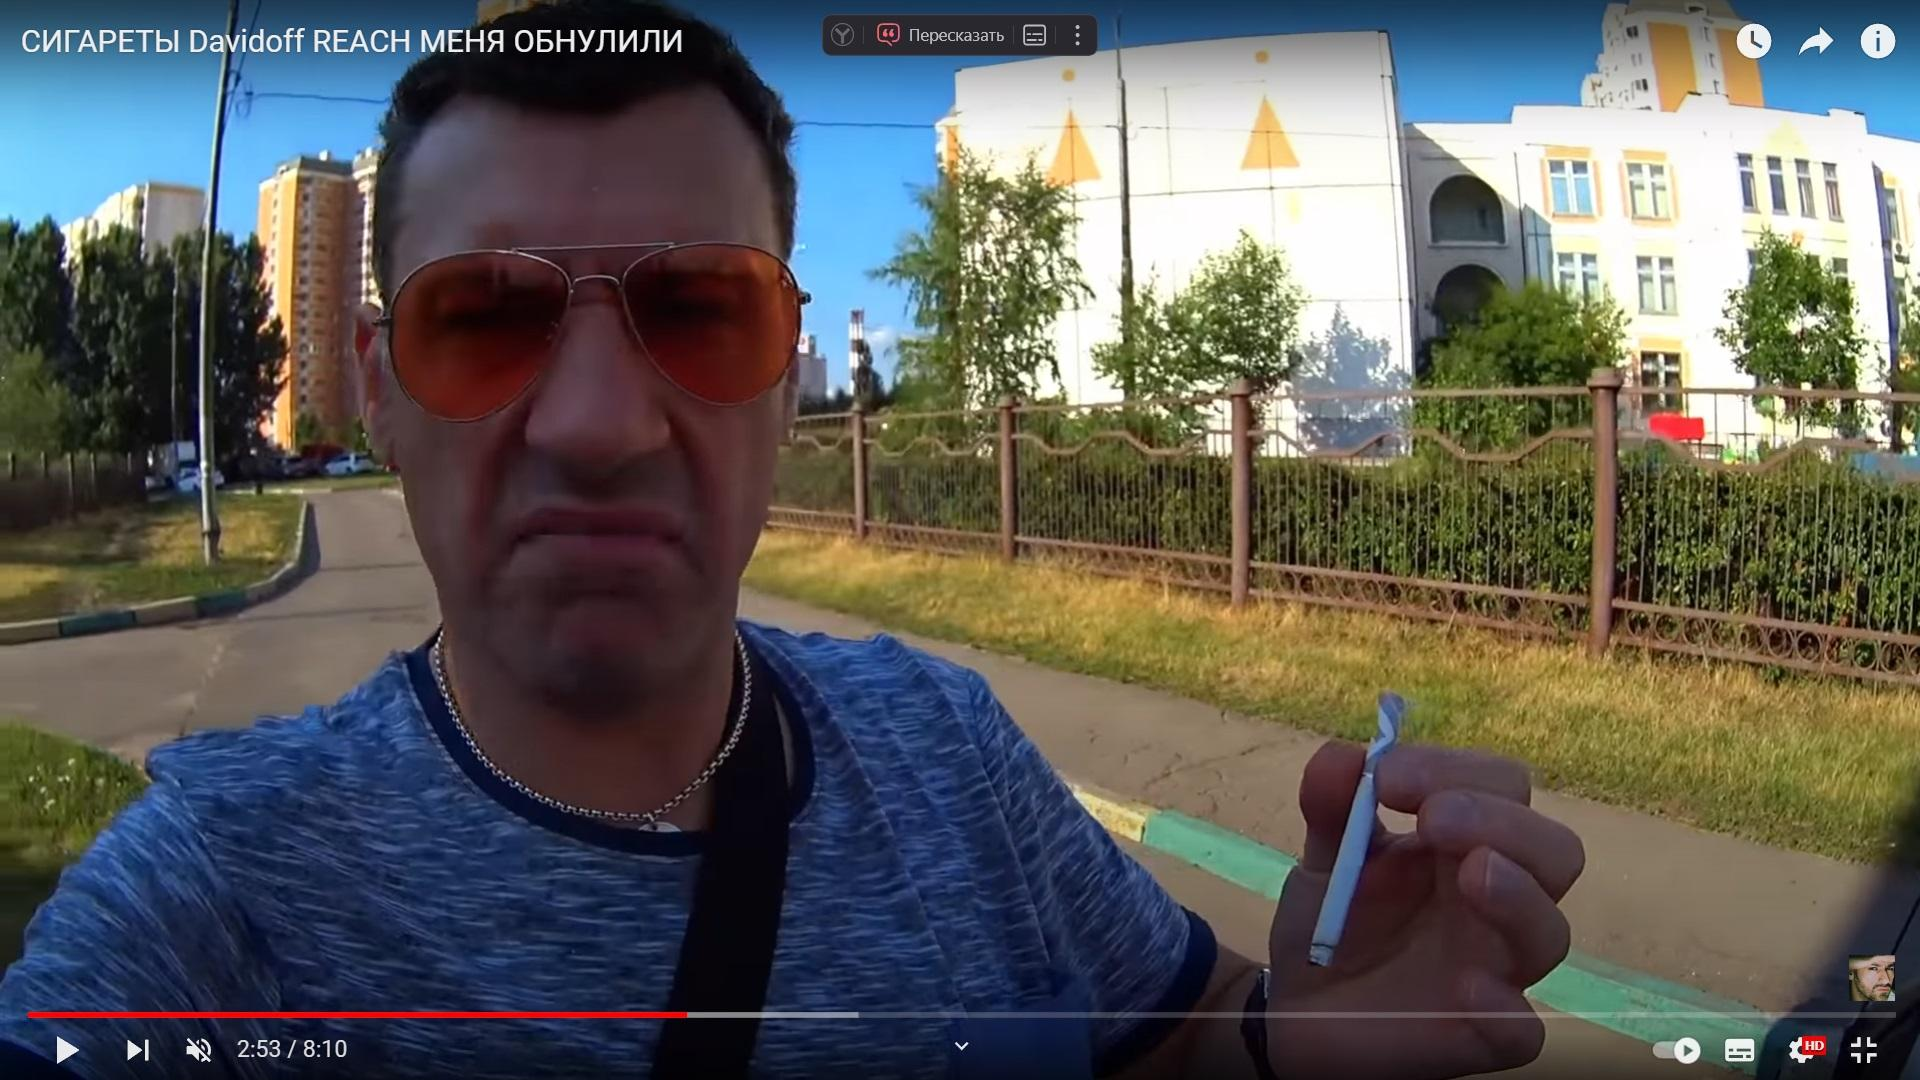cigarette: (1308, 690, 1406, 969)
